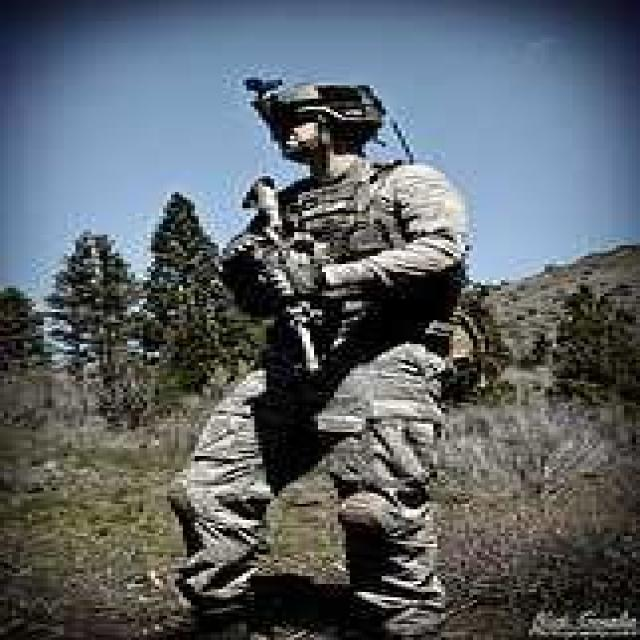Rifle: (213, 171, 360, 383)
